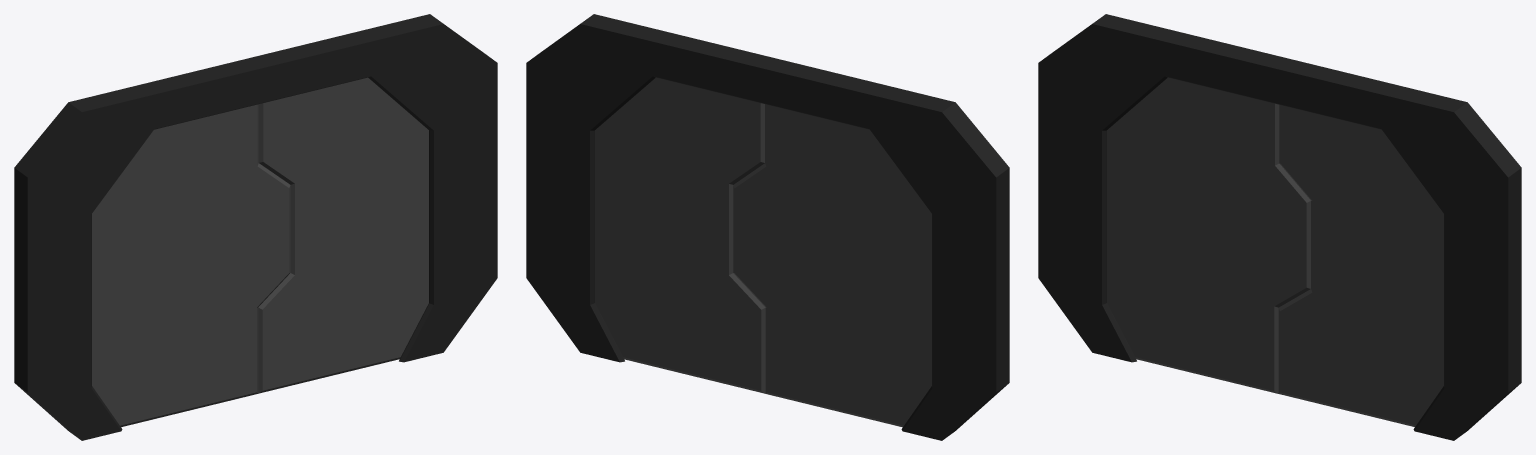
Rendered from Small_Door.fbx.
3 renders of one model, left to right at view 1: azimuth 30°, elevation 25°; view 2: azimuth 150°, elevation 25°; view 3: azimuth 330°, elevation 25°, orthographic.
Visible parts, largest first — view 1: Cube.004, right side of #2 door, Left side of #2 door; view 2: Cube.004, right side of #2 door, Left side of #2 door; view 3: Cube.004, right side of #2 door, Left side of #2 door.
Part boxes in pixels (x1,y1,x2,y2): Cube.004: (14,14,497,440); right side of #2 door: (92,104,290,427); Left side of #2 door: (258,77,428,393); Cube.004: (526,14,1009,440); right side of #2 door: (733,104,931,427); Left side of #2 door: (595,77,765,393); Cube.004: (1038,14,1521,440); right side of #2 door: (1107,77,1310,393); Left side of #2 door: (1278,105,1443,426).
Bounding box in the file's own units: 595 × 399 × 29.96.
